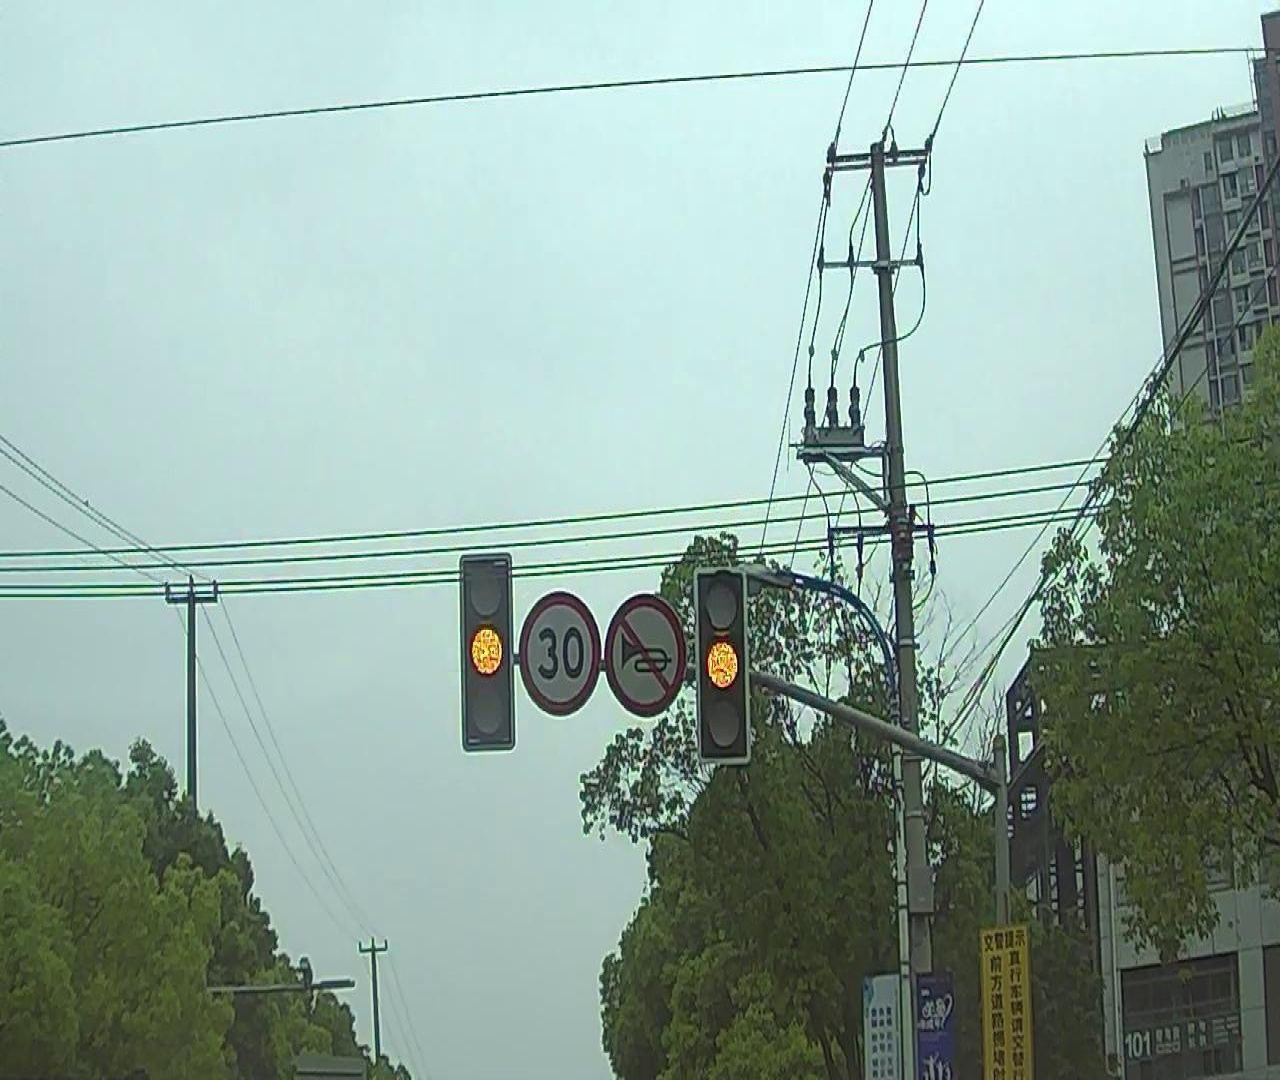yellow: (458, 558, 512, 747), (697, 571, 748, 759)
